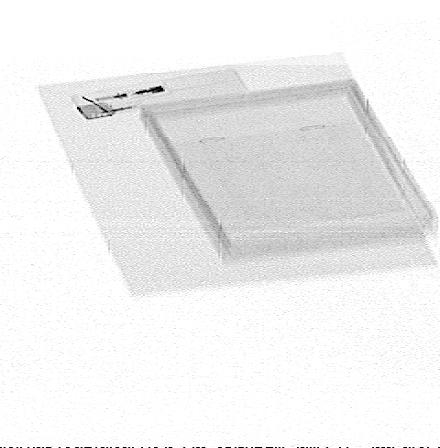Lighter: (70, 69, 249, 121)
